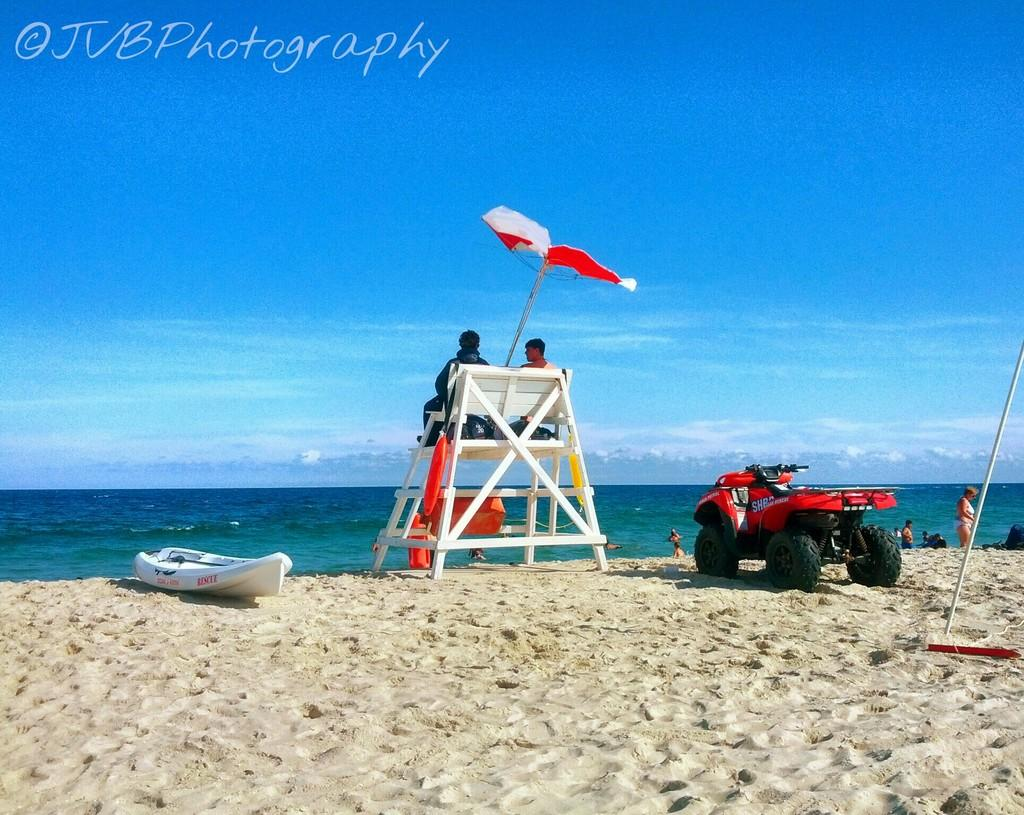Car: (681, 452, 914, 589)
